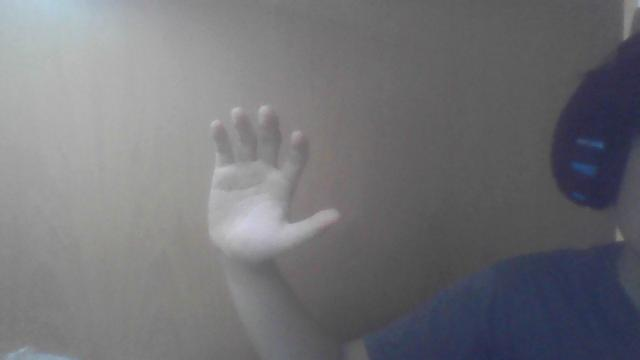Stop: (206, 112, 336, 264)
